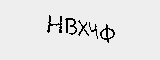К: (54, 17, 73, 34)
Л: (37, 20, 56, 37)
О: (103, 17, 128, 35)
С: (24, 21, 41, 38)
Т: (124, 18, 139, 36)
Ә: (75, 16, 101, 33)
